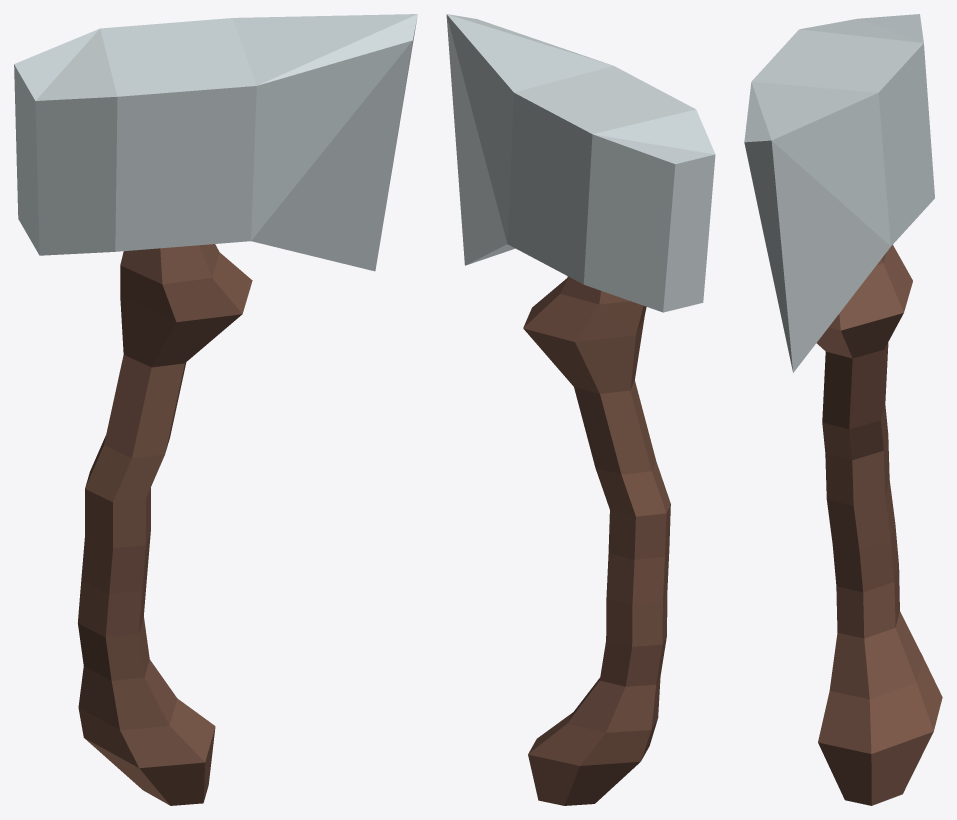
File: machadop1234.fbx
The picture shows the model from 3 angles, left to right: view 1: azimuth 30°, elevation 25°; view 2: azimuth 150°, elevation 25°; view 3: azimuth 270°, elevation 25°; orthographic projection. The views are drawn at different scales.
Visible parts, largest first — view 1: group2115171753; view 2: group2115171753; view 3: group2115171753.
Boxes of the visible parts, x1=… form: group2115171753: x1=14, y1=14, x2=417, y2=805; group2115171753: x1=446, y1=14, x2=715, y2=805; group2115171753: x1=744, y1=14, x2=942, y2=805.
Size of the model in its own units: 10.89 by 23.86 by 5.78.
